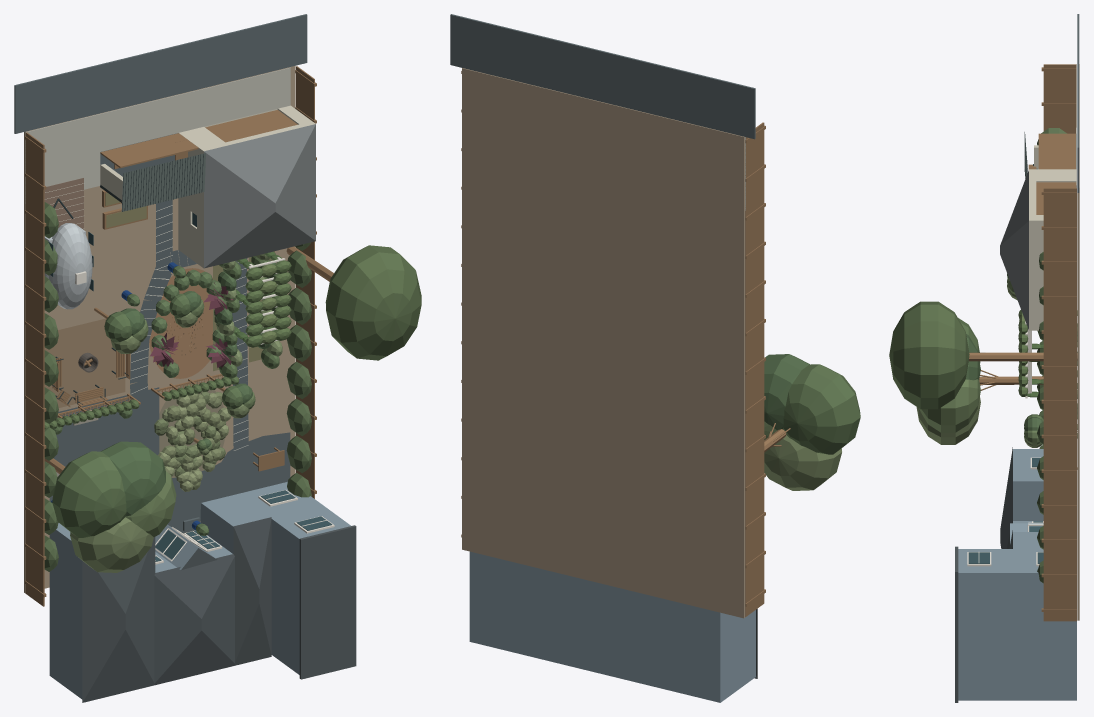
Rendered from existing-backyard.obj.
3 views of the same model, side by side, from view 1: azimuth 30°, elevation 25°; view 2: azimuth 150°, elevation 25°; view 3: azimuth 270°, elevation 25° (orthographic). The views are drawn at different scales.
Visible parts, largest first — view 1: Rear_alley_context_12, Approximate_backyard_extent_11, Existing_hip_roof_envelope_-_18_inch_N-S_ridge_10, West_house_hip_roof_339, Central_house_hip_roof_340, House_flagstone_patio_92, East_overhanging_canopy_510, Approximate_boundary_fence_307, Upper_house_shallow_roof_342, Rear_work_patio_14, East_lower_hip_roof_341, House_two_storey_east_portion_338 (+30 smaller); view 2: Approximate_backyard_extent_11, Rear_alley_context_12, House_west_projecting_wing_335, Approximate_boundary_fence_307, House_east_projecting_wing_337, House_recessed_central_wing_336, T6_west_boundary_tree_canopy_504, T6_west_boundary_tree_canopy_506, T6_west_boundary_tree_canopy_508; view 3: Approximate_boundary_fence_321, House_two_storey_east_portion_338, House_east_projecting_wing_337, East_overhanging_canopy_510, Existing_hip_roof_envelope_-_18_inch_N-S_ridge_10, Approximate_boundary_fence_307, House_west_projecting_wing_335, T6_west_boundary_tree_canopy_502, Approximate_backyard_extent_11, Shelter_back_screen_39, East_wall_7, North_garage_door_opening_6 (+8 smaller).
Boxes of the visible parts, x1,y1,x2,y2 form: Rear_alley_context_12: (14, 14, 307, 133); Approximate_backyard_extent_11: (24, 66, 295, 593); Existing_hip_roof_envelope_-_18_inch_N-S_ridge_10: (204, 124, 315, 268); West_house_hip_roof_339: (82, 537, 155, 702); Central_house_hip_roof_340: (153, 554, 235, 685); House_flagstone_patio_92: (49, 387, 290, 533); East_overhanging_canopy_510: (325, 245, 421, 360); Approximate_boundary_fence_307: (25, 132, 44, 606); Upper_house_shallow_roof_342: (299, 525, 356, 679); Rear_work_patio_14: (25, 95, 178, 203); East_lower_hip_roof_341: (233, 517, 271, 665); House_two_storey_east_portion_338: (271, 506, 350, 674); Approximate_backyard_extent_11: (462, 68, 745, 618); Rear_alley_context_12: (450, 14, 755, 139); House_west_projecting_wing_335: (647, 595, 755, 702); Approximate_boundary_fence_307: (745, 122, 764, 616); House_east_projecting_wing_337: (469, 551, 562, 664); House_recessed_central_wing_336: (562, 574, 647, 684); T6_west_boundary_tree_canopy_504: (783, 364, 860, 454); T6_west_boundary_tree_canopy_506: (764, 435, 841, 490); T6_west_boundary_tree_canopy_508: (764, 354, 809, 430); Approximate_boundary_fence_321: (1043, 188, 1076, 621); House_two_storey_east_portion_338: (958, 549, 1012, 700); House_east_projecting_wing_337: (1013, 532, 1076, 700); East_overhanging_canopy_510: (889, 301, 969, 409); Existing_hip_roof_envelope_-_18_inch_N-S_ridge_10: (1000, 170, 1028, 329); Approximate_boundary_fence_307: (1043, 64, 1076, 133); House_west_projecting_wing_335: (1013, 449, 1043, 520); T6_west_boundary_tree_canopy_502: (919, 379, 980, 432); Approximate_backyard_extent_11: (1077, 64, 1079, 620); Shelter_back_screen_39: (1038, 133, 1075, 169); East_wall_7: (1029, 224, 1043, 327); North_garage_door_opening_6: (1029, 169, 1076, 224).
Bounding box in the file's own units: 19.82 × 32.38 × 9.94.
